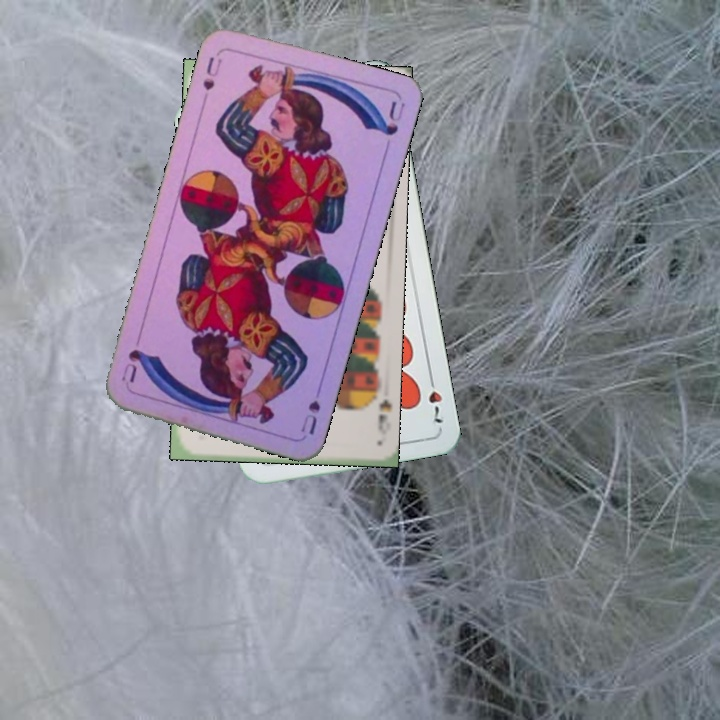H7: (424, 370, 446, 427)
S9: (365, 381, 392, 437)
SU: (296, 378, 325, 438), (198, 52, 225, 93)
